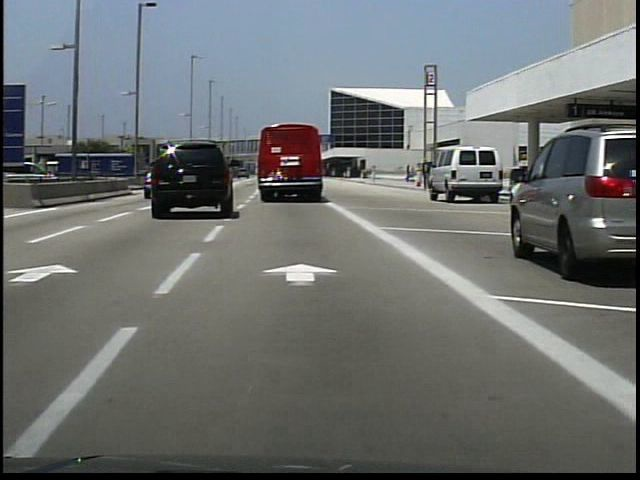person: (421, 159, 431, 194)
